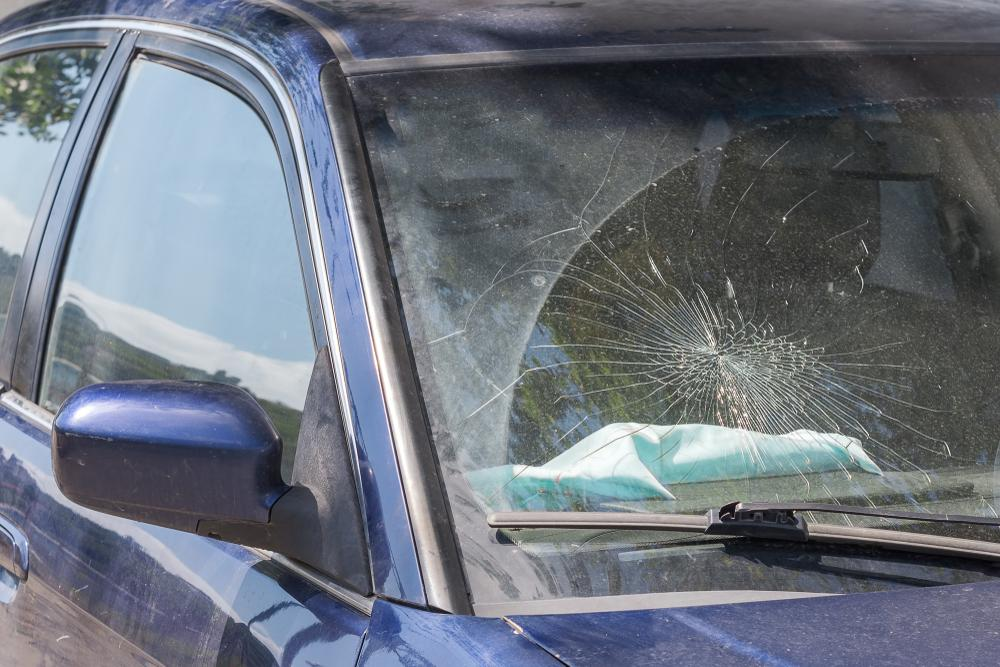glass shatter: (370, 52, 1000, 560)
